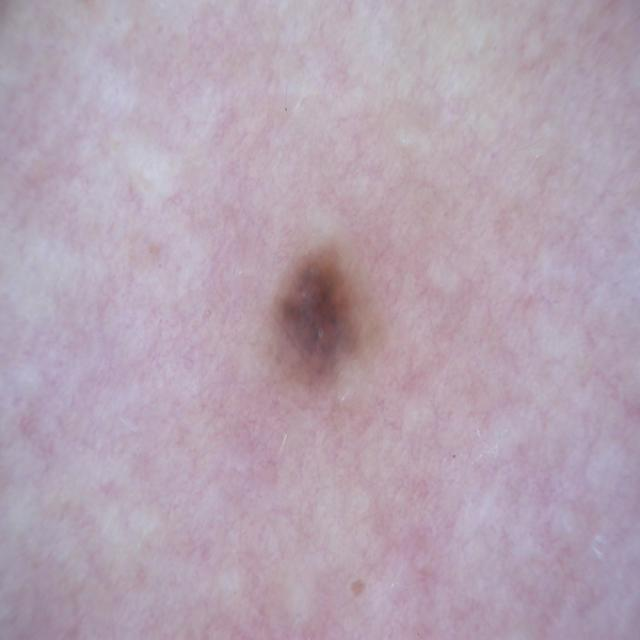NV: (261, 238, 384, 400)
